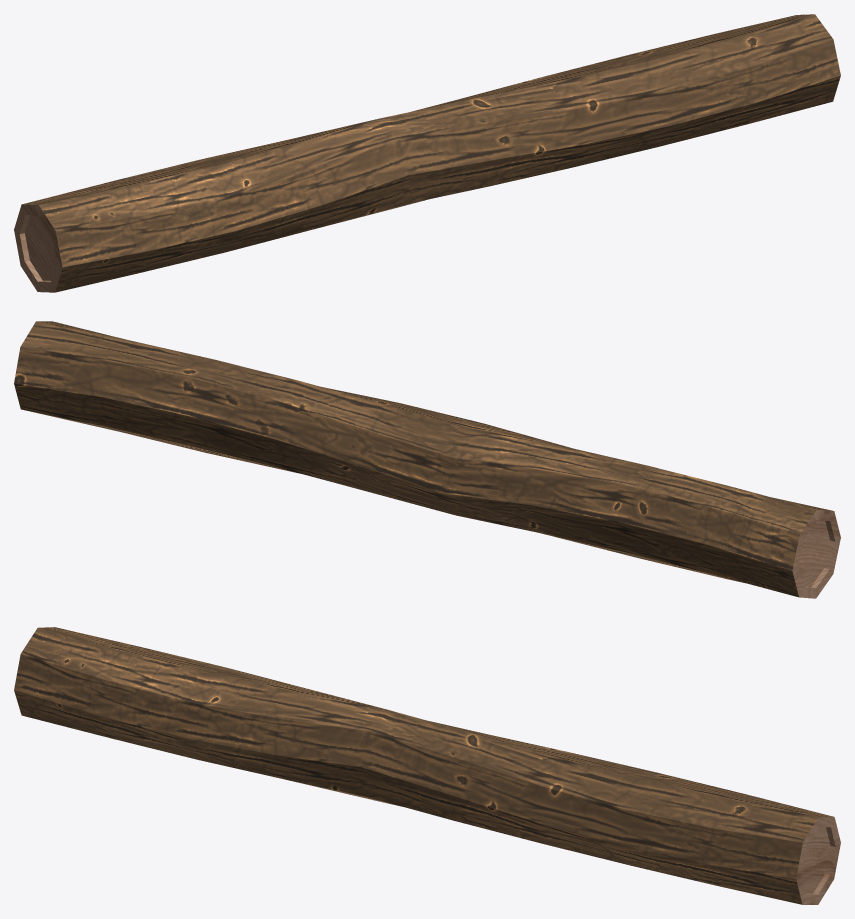
Rendered from Knight-TEX-Logs.fbx.
3 renders of one model, top to bottom at view 1: azimuth 30°, elevation 25°; view 2: azimuth 150°, elevation 25°; view 3: azimuth 330°, elevation 25°, orthographic.
Parts seen in each view (by area): view 1: pasted__pCylinder2; view 2: pasted__pCylinder2; view 3: pasted__pCylinder2.
Boxes of the visible parts, x1,y1,x2,y2 form: pasted__pCylinder2: (14,14,840,292); pasted__pCylinder2: (14,321,840,598); pasted__pCylinder2: (14,627,840,904).
Bounding box in the file's own units: 12.67 × 1.37 × 1.42.
1 material, 1 textured.
